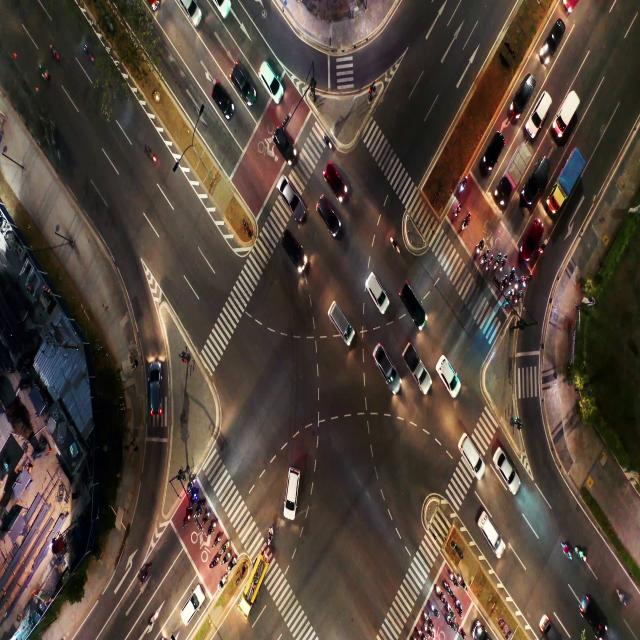bus: (250, 562, 260, 592)
car: (148, 363, 163, 414), (286, 467, 296, 520), (180, 594, 200, 619), (498, 454, 514, 482), (286, 183, 300, 214), (402, 290, 419, 315), (377, 349, 390, 379), (463, 436, 476, 464), (332, 309, 346, 333), (370, 276, 382, 303), (482, 518, 496, 539), (218, 87, 230, 110), (328, 171, 342, 190), (445, 365, 456, 387), (289, 240, 300, 260), (321, 202, 332, 222), (278, 134, 289, 150), (550, 24, 561, 40), (535, 164, 544, 182), (238, 70, 246, 89), (530, 228, 538, 244), (265, 70, 275, 82), (488, 144, 496, 158), (536, 101, 544, 115), (521, 86, 528, 100)
motorcycle: (146, 144, 157, 164), (389, 235, 399, 252), (324, 133, 332, 150), (266, 528, 274, 542), (457, 575, 466, 587), (481, 251, 488, 265), (564, 546, 571, 560), (577, 549, 584, 561), (189, 477, 194, 492), (144, 564, 150, 576), (150, 613, 156, 624), (461, 179, 466, 192), (451, 571, 456, 584), (190, 496, 196, 506), (454, 206, 460, 216), (456, 602, 462, 612), (222, 571, 225, 589), (185, 512, 190, 522), (211, 522, 216, 532), (222, 554, 227, 564), (463, 217, 468, 227), (510, 270, 515, 280), (448, 606, 453, 616), (426, 616, 432, 624), (198, 505, 203, 514), (524, 276, 528, 287), (204, 514, 208, 524), (215, 536, 220, 544), (229, 560, 234, 568), (477, 244, 482, 252), (488, 257, 492, 267), (452, 594, 457, 602), (459, 627, 464, 635), (432, 607, 437, 615), (446, 585, 451, 592), (437, 590, 442, 597), (518, 276, 522, 284), (496, 257, 499, 266), (502, 257, 505, 266), (541, 242, 544, 251), (509, 292, 512, 301), (516, 290, 519, 299), (450, 617, 453, 626), (222, 545, 227, 550), (428, 630, 433, 635), (503, 278, 506, 286), (418, 629, 422, 635), (213, 558, 216, 565)
truck: (408, 354, 420, 380), (562, 99, 573, 120), (514, 154, 524, 175), (564, 166, 574, 186)
